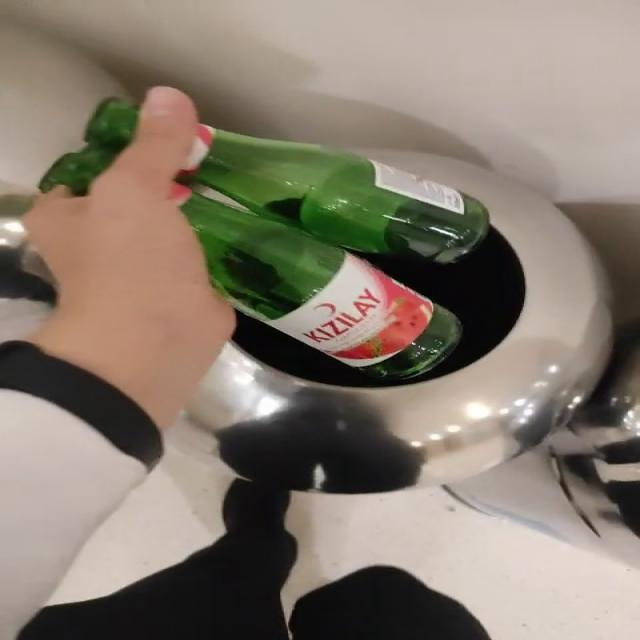glass: (179, 128, 488, 379), (39, 98, 137, 194)
